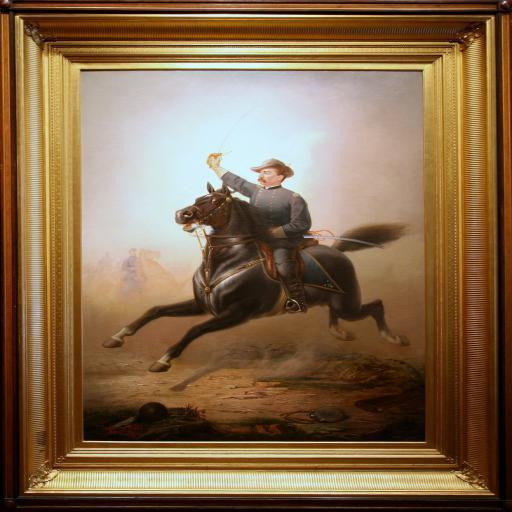horse: (98, 178, 414, 376)
